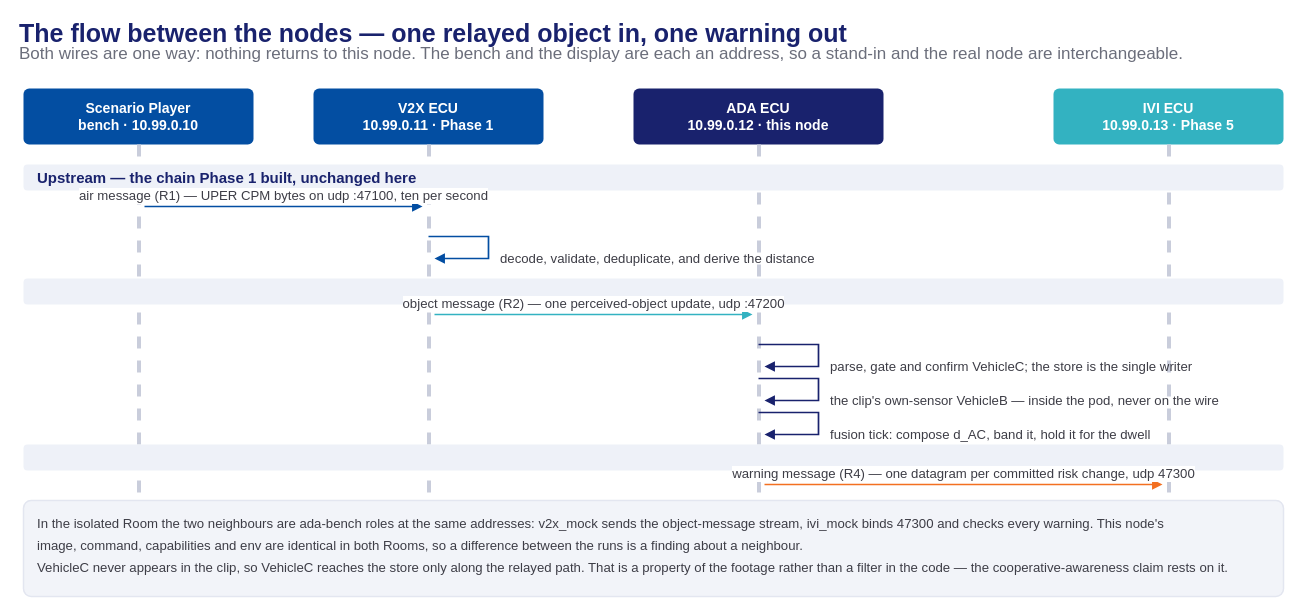
Image size: 1306x614. Some labels were removed from this diagram. Here are the shapes that lost their labels. From the top down, the centre of each, then its label:
At [653,291]: "Into the node — the relayed object message (R2)".
At [653,457]: "Out of the node — the warning message (R4)".
